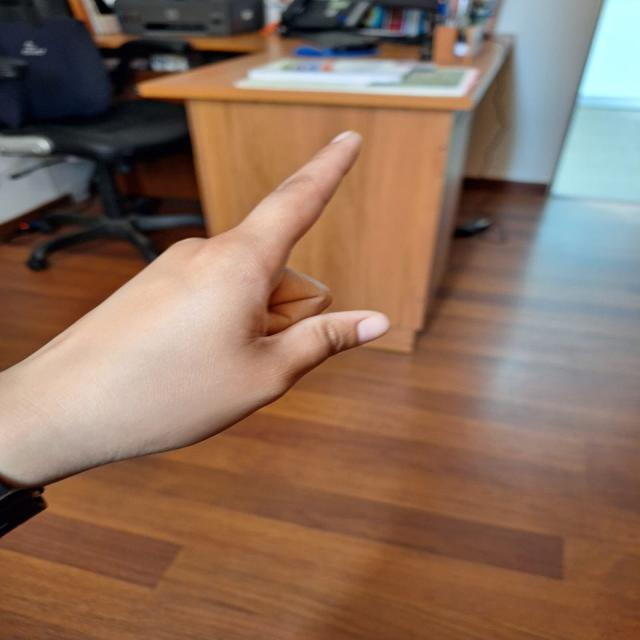X: (25, 120, 408, 474)
